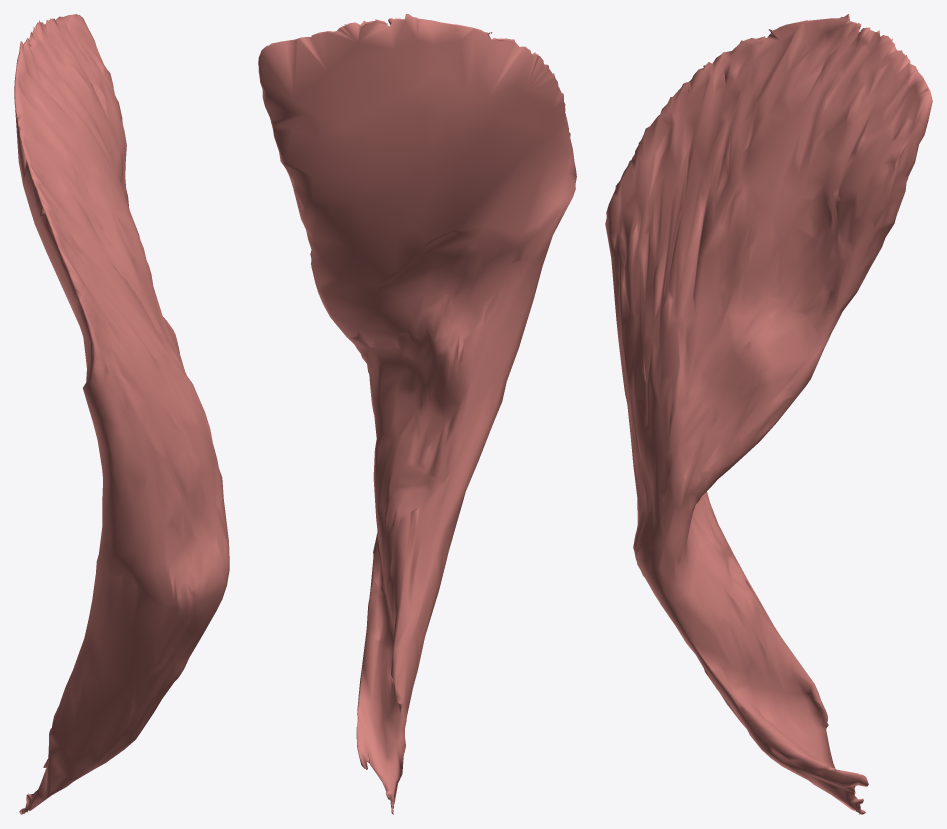
3 renders of one model, left to right at view 1: azimuth 30°, elevation 25°; view 2: azimuth 150°, elevation 25°; view 3: azimuth 270°, elevation 25°, orthographic. The views are drawn at different scales.
Visible parts, largest first — view 1: ZA_8ddf23fc92a15481; view 2: ZA_8ddf23fc92a15481; view 3: ZA_8ddf23fc92a15481.
Part boxes in pixels (<box>): ZA_8ddf23fc92a15481: <box>14,14,229,814</box>; ZA_8ddf23fc92a15481: <box>258,14,576,814</box>; ZA_8ddf23fc92a15481: <box>605,14,932,814</box>.
Bounding box in the file's own units: 0.0561 × 0.2316 × 0.0862.
